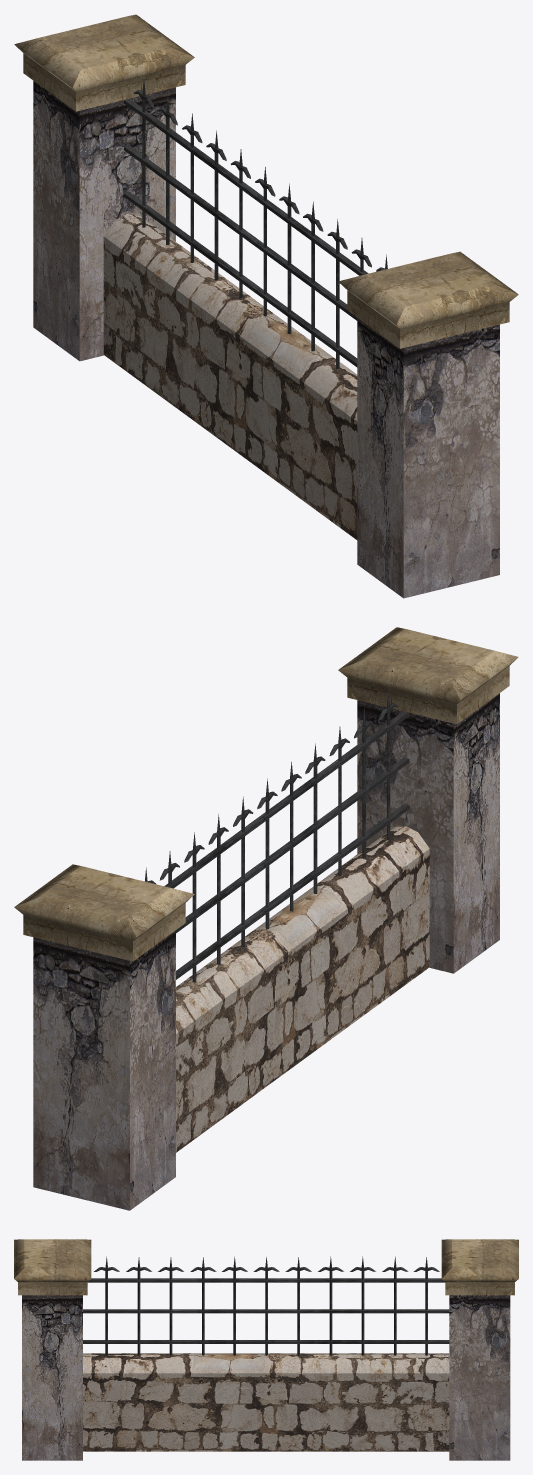
The model's file is Wall_Segment_02_ALT.fbx.
3 views of the same model, one above another, from view 1: azimuth 30°, elevation 25°; view 2: azimuth 150°, elevation 25°; view 3: azimuth 270°, elevation 25° (orthographic). The views are drawn at different scales.
Parts seen in each view (by area): view 1: wall_segment_02; view 2: wall_segment_02; view 3: wall_segment_02.
Boxes of the visible parts, x1,y1,x2,y2 form: wall_segment_02: [14, 14, 518, 598]; wall_segment_02: [14, 627, 518, 1210]; wall_segment_02: [14, 1239, 518, 1460].
Size of the model in its own units: 1.53 by 3.45 by 8.27.
